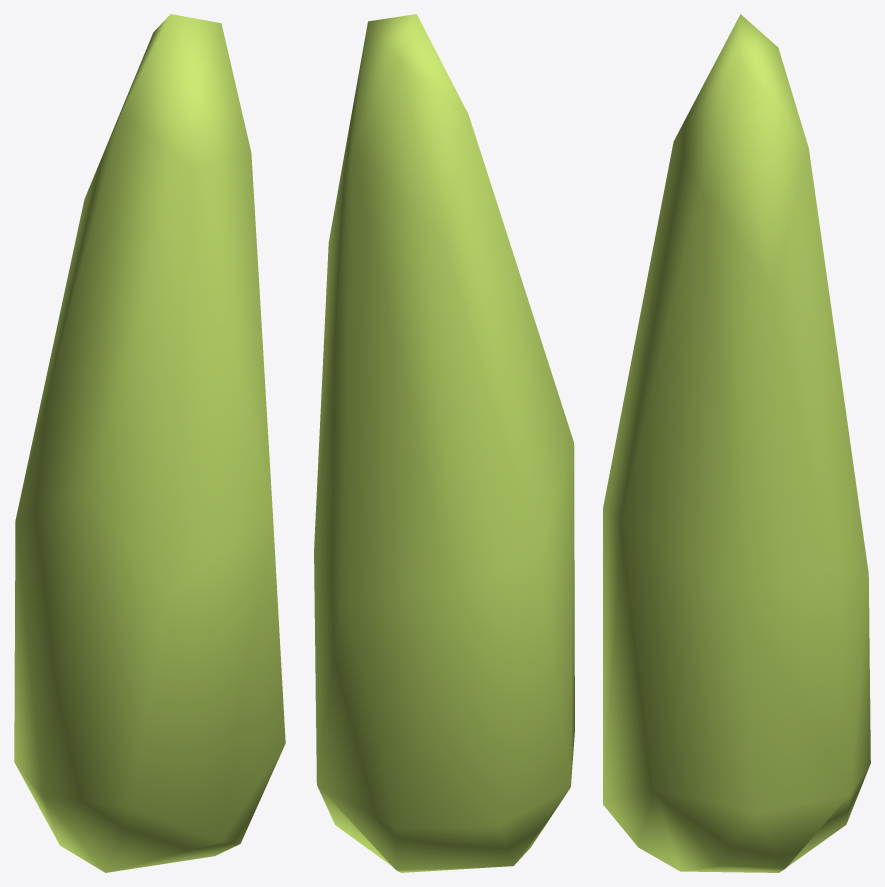
File: BushTree_A.fbx
3 views of the same model, side by side, from view 1: azimuth 30°, elevation 25°; view 2: azimuth 150°, elevation 25°; view 3: azimuth 270°, elevation 25° (orthographic). The views are drawn at different scales.
Parts seen in each view (by area): view 1: Thuja_BushTree_m_07; view 2: Thuja_BushTree_m_07; view 3: Thuja_BushTree_m_07.
Part boxes in pixels (<box>): Thuja_BushTree_m_07: <box>14,14,285,872</box>; Thuja_BushTree_m_07: <box>314,14,574,872</box>; Thuja_BushTree_m_07: <box>603,14,870,872</box>.
Size of the model in its own units: 99.42 by 343 by 96.61.
